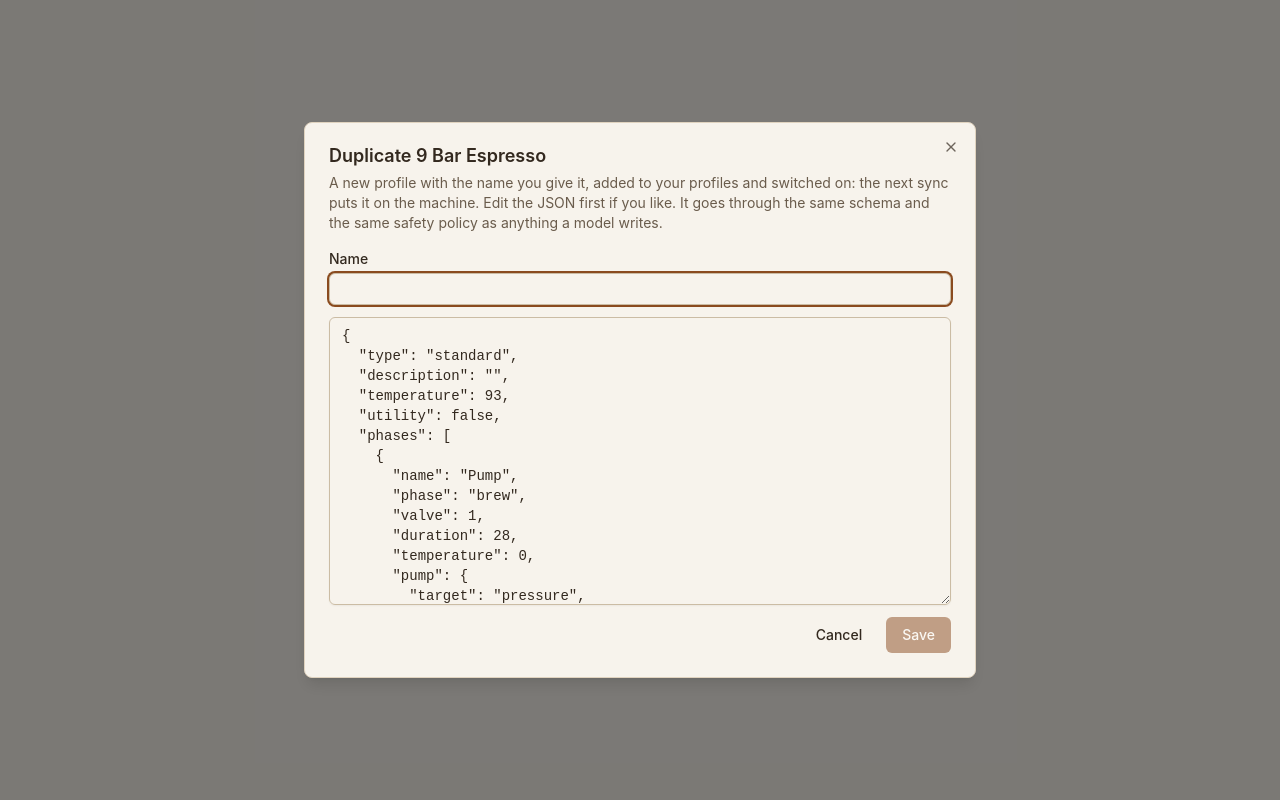
Test: DuplicateProfileDialog › shows what the policy would move, and a clamp blocks the save
The width and height of the screenshot is (1280, 800).
Type "Copy" into the field with test id "duplicate-profile-name" at (640, 289), box x1=329 y1=273 x2=951 y2=305
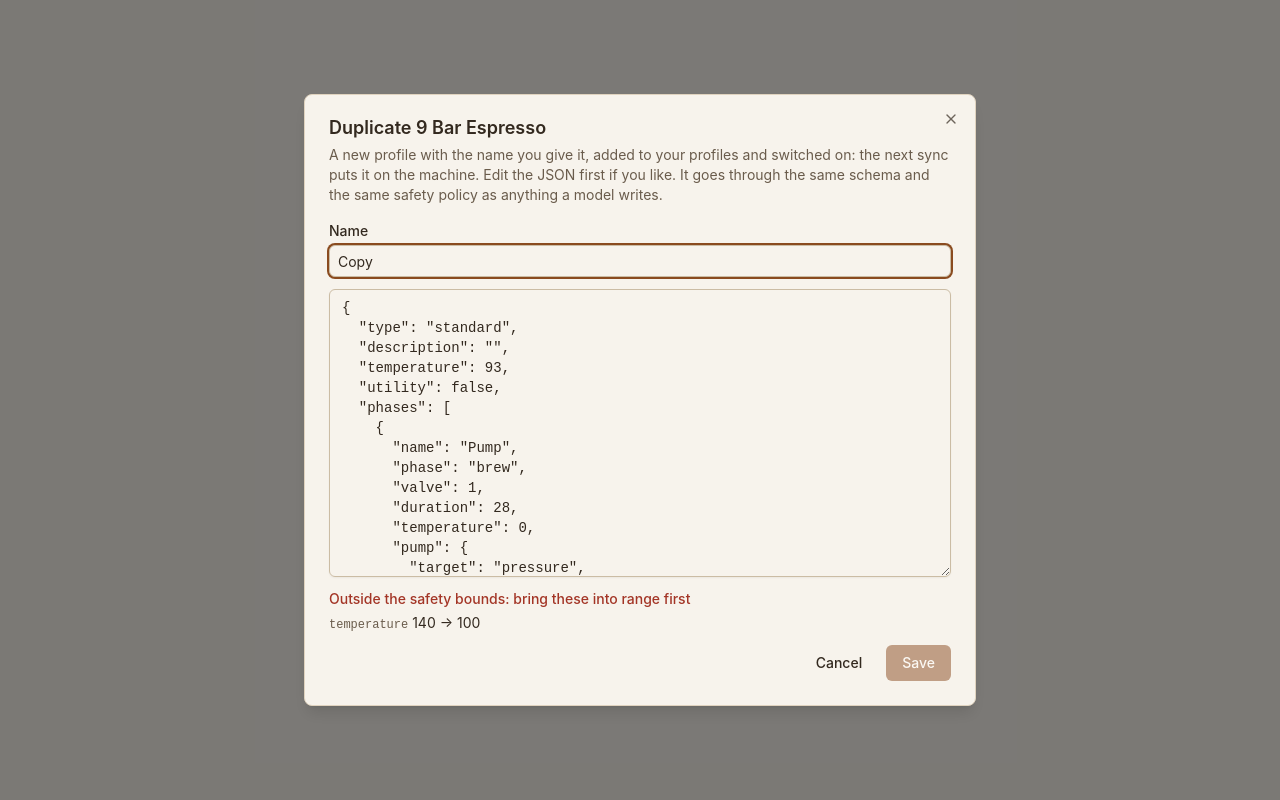
Check: the button with test id "save-duplicate" is disabled, box x1=886 y1=645 x2=951 y2=681
Check: the element with test id "editor-clamps" shows "140 → 100", box x1=329 y1=590 x2=690 y2=632
